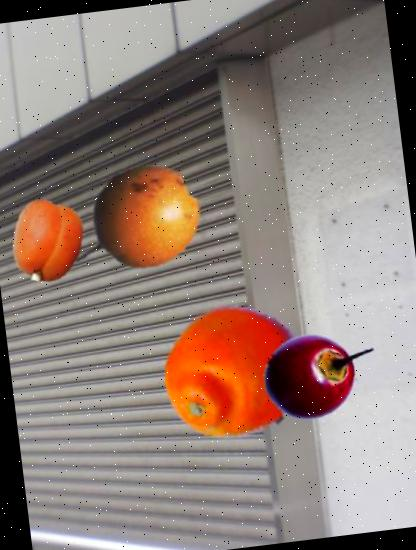Apricot: (3, 197, 94, 288)
Granadilla: (54, 144, 212, 302)
Tamarillo: (256, 316, 368, 429)
Tangelo: (154, 294, 314, 453)
